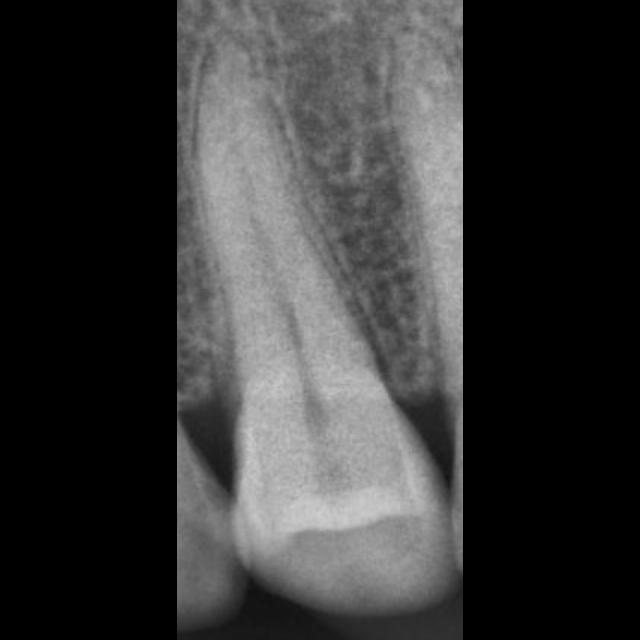tooth: (204, 88, 439, 568)
